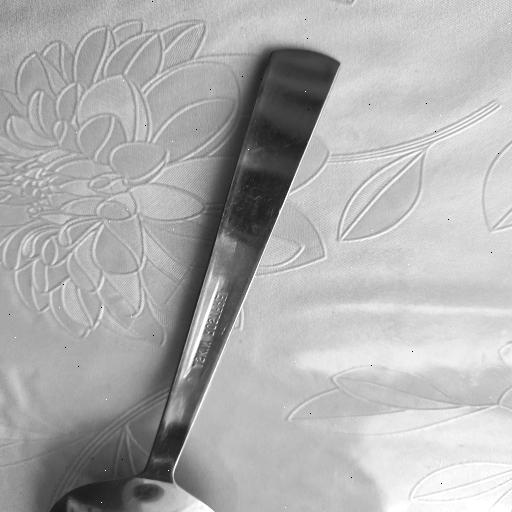spoon: (40, 46, 339, 512)
